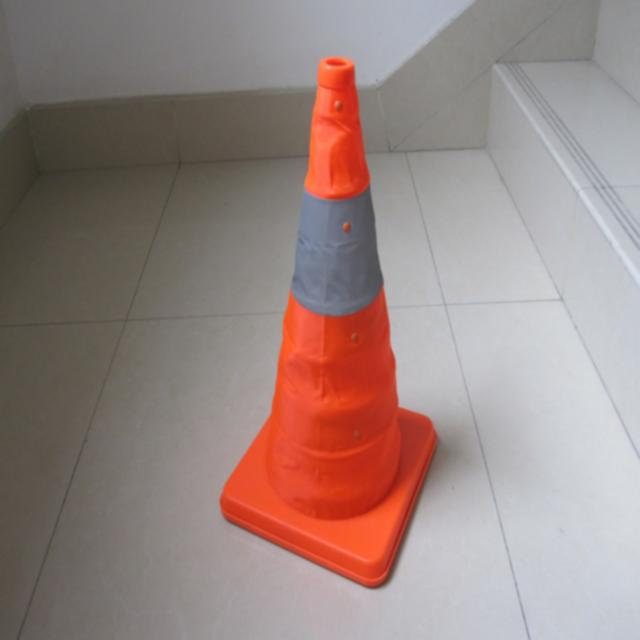reflective_cone: (219, 56, 439, 583)
